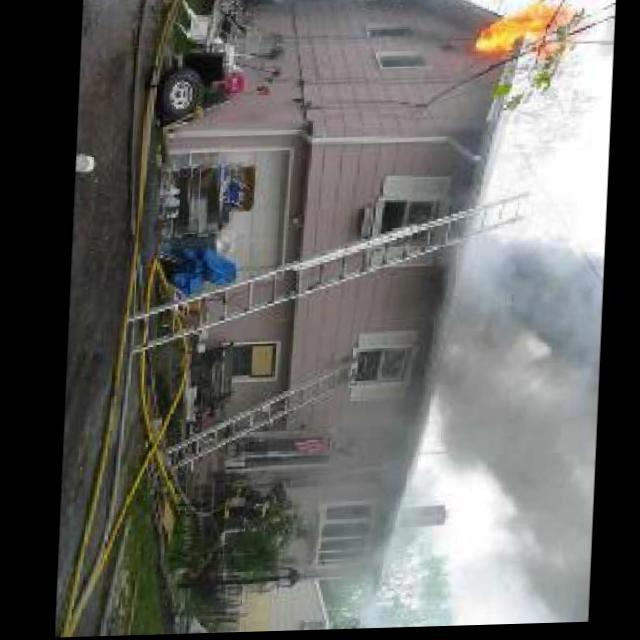fire: (430, 236, 608, 630), (479, 7, 565, 65)
